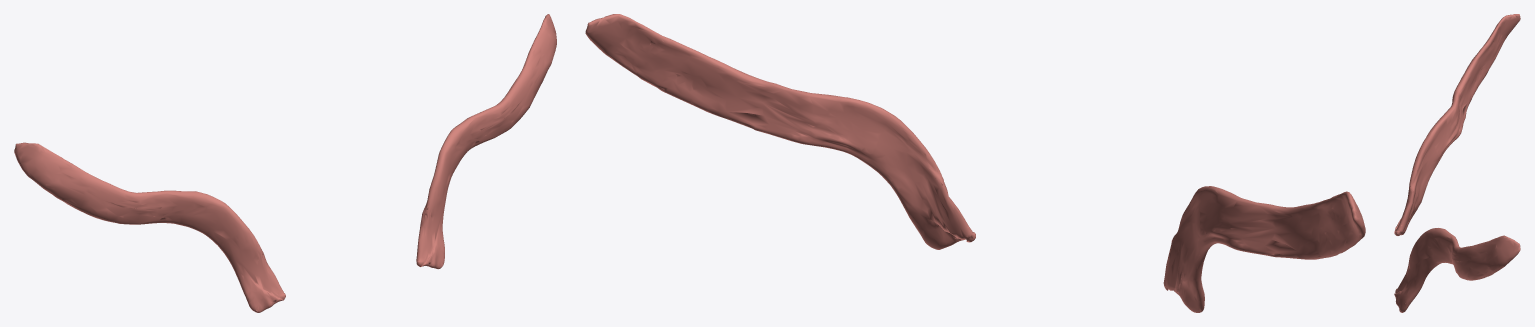
File: zygomaticus_minor_lod1.glb
3 views of the same model, side by side, from view 1: azimuth 30°, elevation 25°; view 2: azimuth 150°, elevation 25°; view 3: azimuth 270°, elevation 25° (orthographic). The views are drawn at different scales.
Visible parts, largest first — view 1: zygomaticus_minor_R_lod1, zygomaticus_minor_L_lod1; view 2: zygomaticus_minor_L_lod1, zygomaticus_minor_R_lod1; view 3: zygomaticus_minor_R_lod1, zygomaticus_minor_L_lod1.
Boxes of the visible parts, bbox=[...] form: zygomaticus_minor_R_lod1: bbox=[14, 142, 285, 312]; zygomaticus_minor_L_lod1: bbox=[416, 14, 556, 269]; zygomaticus_minor_L_lod1: bbox=[585, 14, 975, 249]; zygomaticus_minor_R_lod1: bbox=[1163, 186, 1365, 312]; zygomaticus_minor_R_lod1: bbox=[1394, 14, 1520, 235]; zygomaticus_minor_L_lod1: bbox=[1394, 228, 1520, 312].
Size of the model in its own units: 0.1043 by 0.0309 by 0.024.
